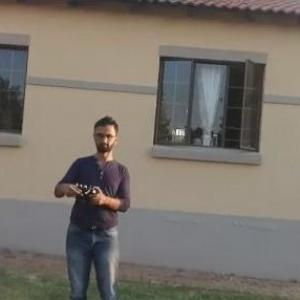follow: (46, 111, 134, 299)
